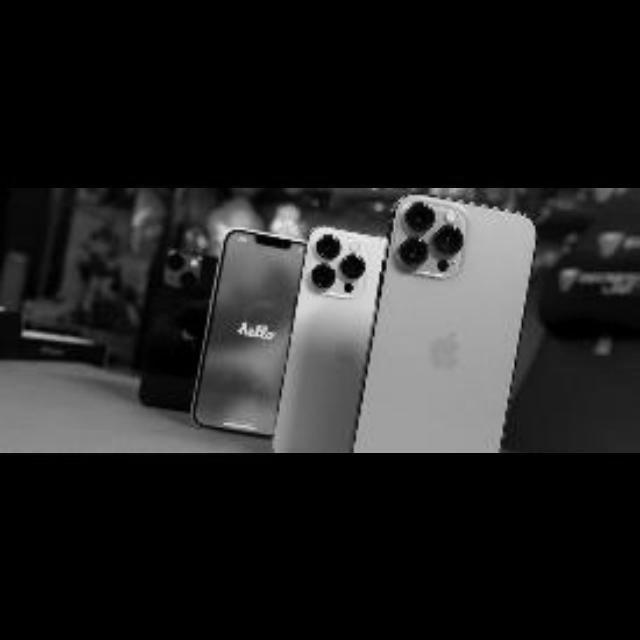fake: (195, 212, 304, 440)
